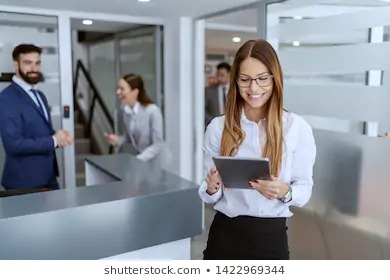F_M_suit jacket: (1, 81, 62, 183)
F_shirt: (193, 104, 318, 223)
